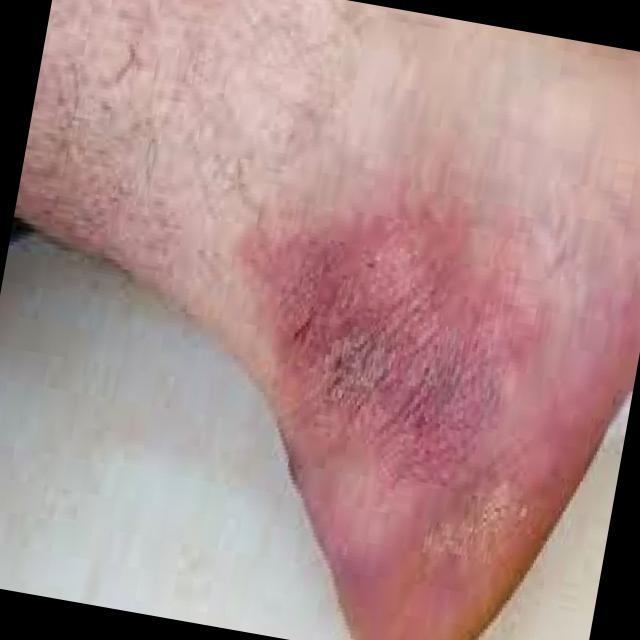Eczema: (237, 203, 518, 512)
